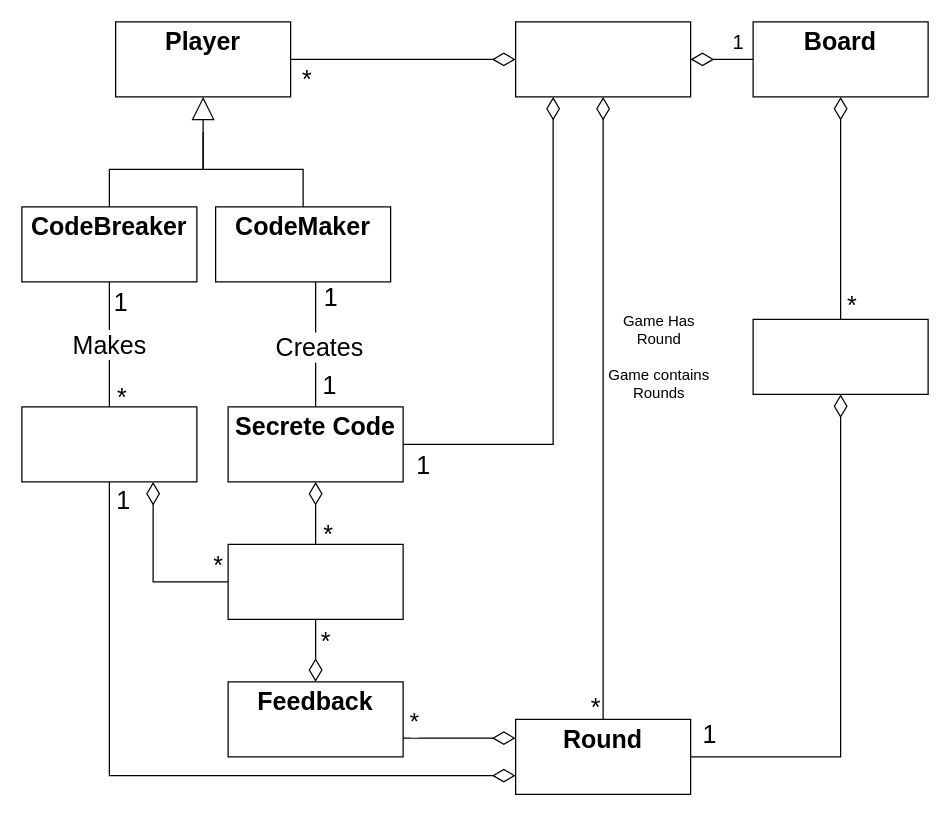
Some shapes in this 950 by 820 pixel diagram are drawn without their labels. Here are the shapes that lost their labels. From the top down, the centre of each, then its label:
At (602,59): "Game".
At (840,356): "Row".
At (109,444): "Guess".
At (315,581): "Peg".
